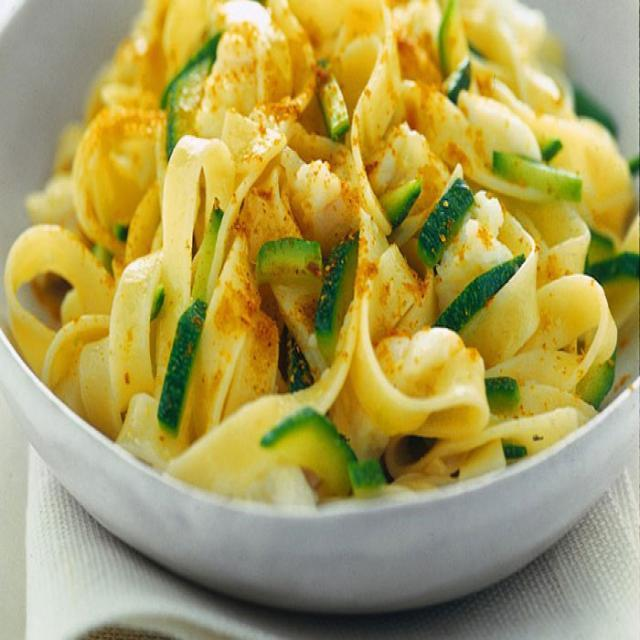Oil pasta: (45, 11, 639, 569)
